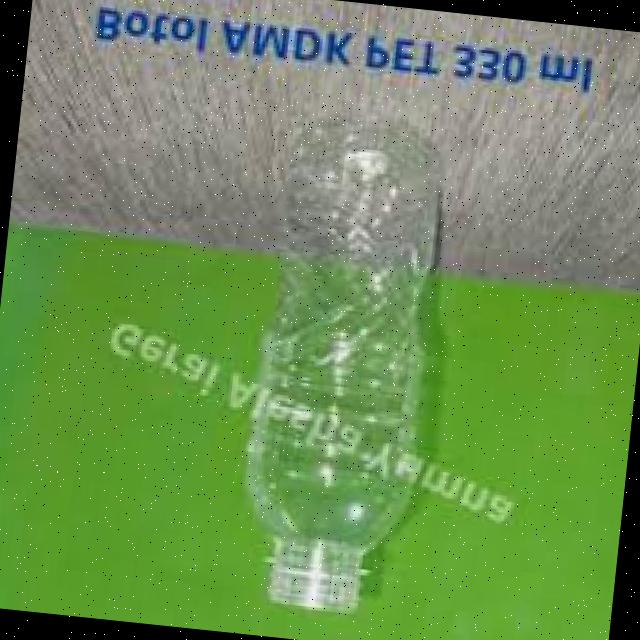bottle: (236, 109, 466, 622)
